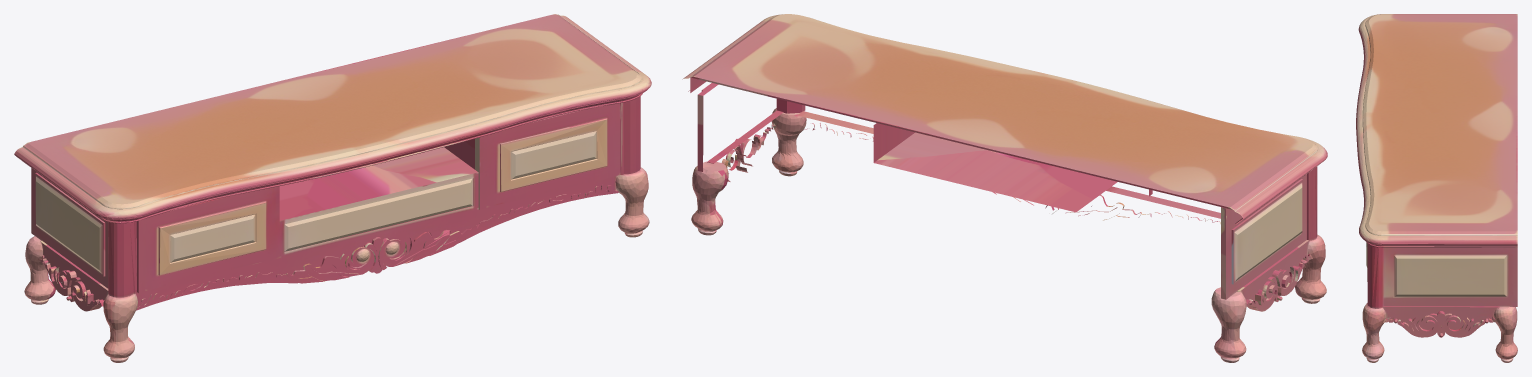
The model's file is edited_mesh.glb.
3 renders of one model, left to right at view 1: azimuth 30°, elevation 25°; view 2: azimuth 150°, elevation 25°; view 3: azimuth 270°, elevation 25°, orthographic. The views are drawn at different scales.
Parts seen in each view (by area): view 1: solid_001_wire; view 2: solid_001_wire; view 3: solid_001_wire.
Boxes of the visible parts, x1=… form: solid_001_wire: x1=14, y1=14, x2=651, y2=362; solid_001_wire: x1=682, y1=14, x2=1327, y2=362; solid_001_wire: x1=1356, y1=14, x2=1517, y2=362.
Bounding box in the file's own units: 2 × 0.5386 × 0.6003.
1 material, 1 textured.
